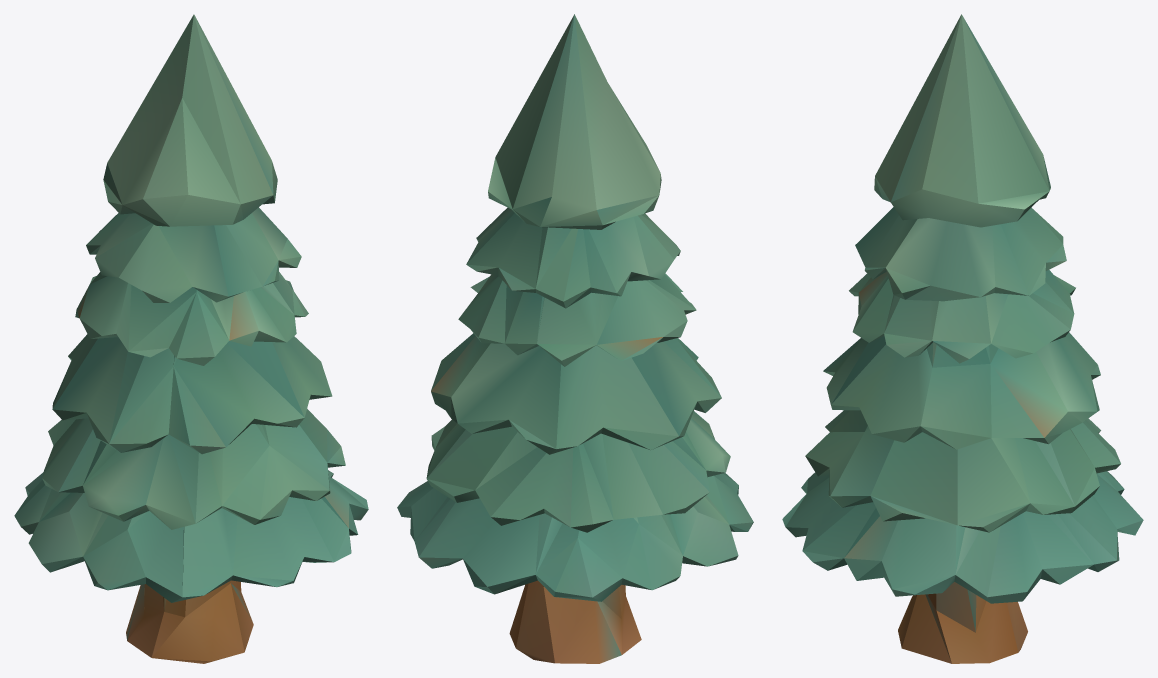
File: pine.glb
The picture shows the model from 3 angles, left to right: view 1: azimuth 30°, elevation 25°; view 2: azimuth 150°, elevation 25°; view 3: azimuth 270°, elevation 25°; orthographic projection.
Parts seen in each view (by area): view 1: geometry_0; view 2: geometry_0; view 3: geometry_0.
Part boxes in pixels (left/top/right/bottom): geometry_0: left=14, top=14, right=368, bottom=663; geometry_0: left=397, top=14, right=753, bottom=663; geometry_0: left=782, top=14, right=1143, bottom=663.
Size of the model in its own units: 3.42 by 6.62 by 3.43.
